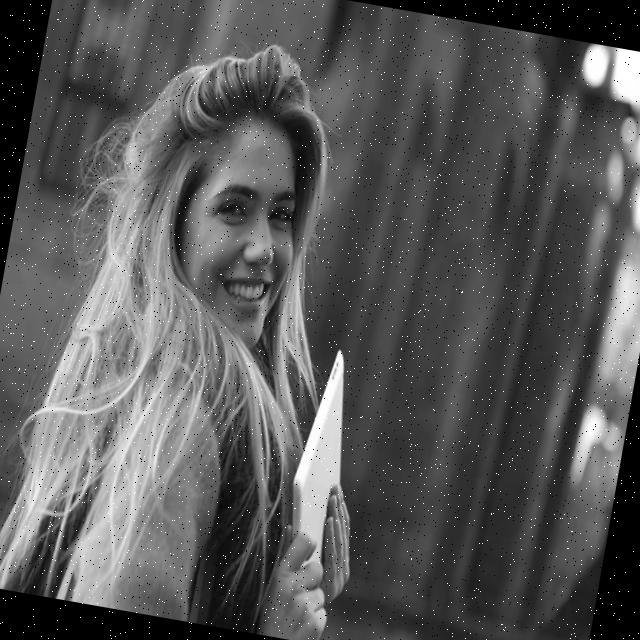Happiness: (164, 105, 318, 352)
